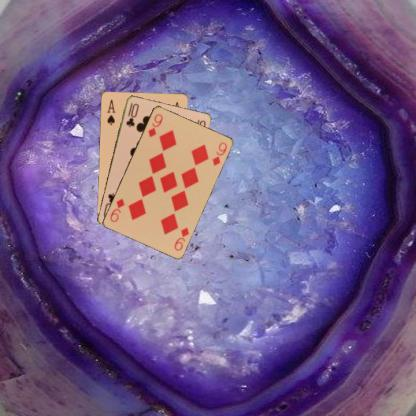10c: (123, 100, 140, 128)
9d: (145, 111, 164, 138), (172, 224, 190, 252)
As: (104, 97, 116, 126)
